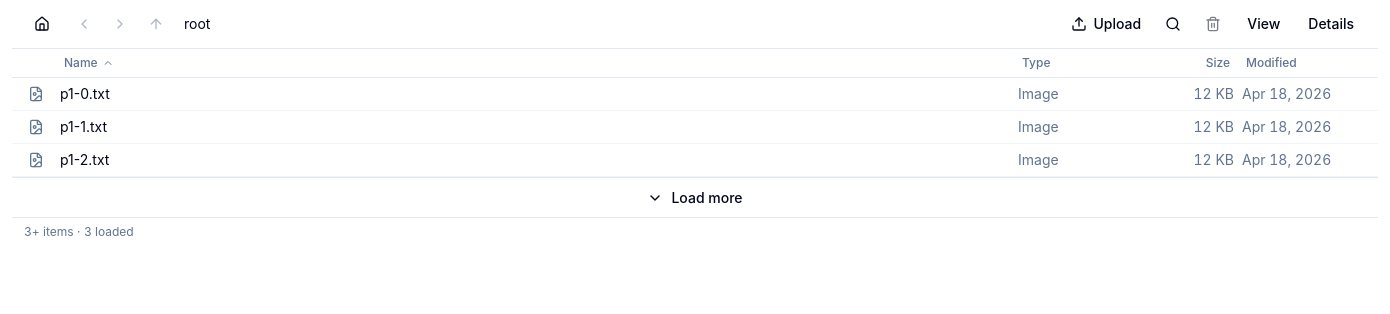
LoadMoreRegion behavior through the composite (spec scenarios) › Retry on the failed row swaps to the busy button, then appends + hides on success (spec lines 53-56)
This screenshot has width=1390, height=314.
// First click → failed row.
Click the button "Load more": (695, 197) [12, 177, 1378, 217]
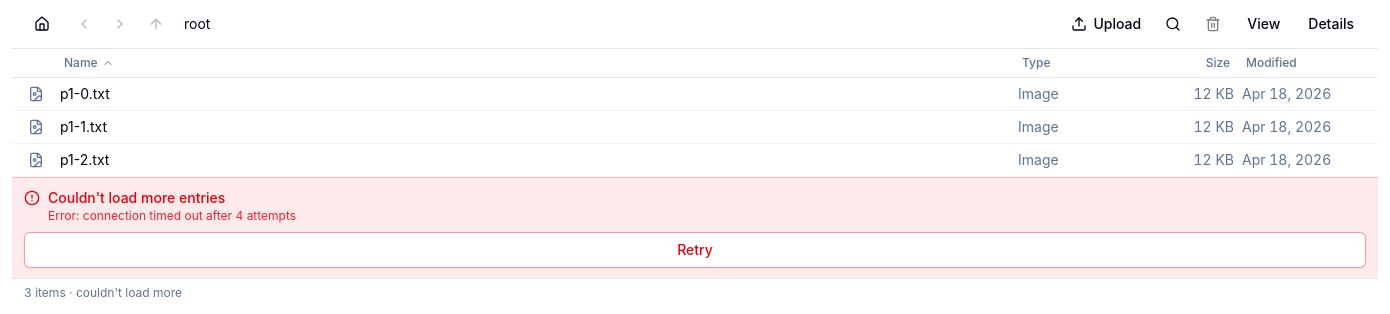
Expected: the message "Couldn't load more entries Error: connection timed out after 4 attempts Retry" is shown, [12, 177, 1378, 278]
Click the button "Retry": (695, 250) [24, 232, 1366, 268]
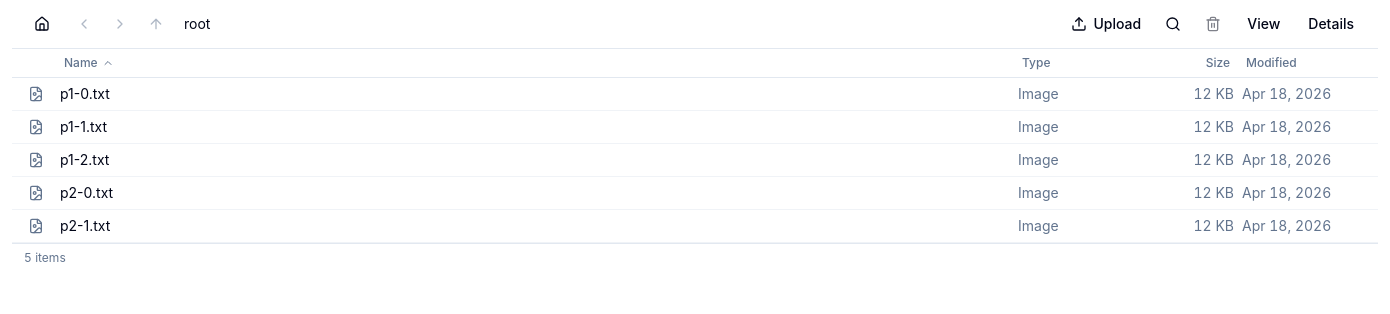
Expected: the message with test id "load-more-failed" is gone
Expected: the text "load more" is gone
Expected: the message reads "5 items", [12, 243, 1378, 272]
